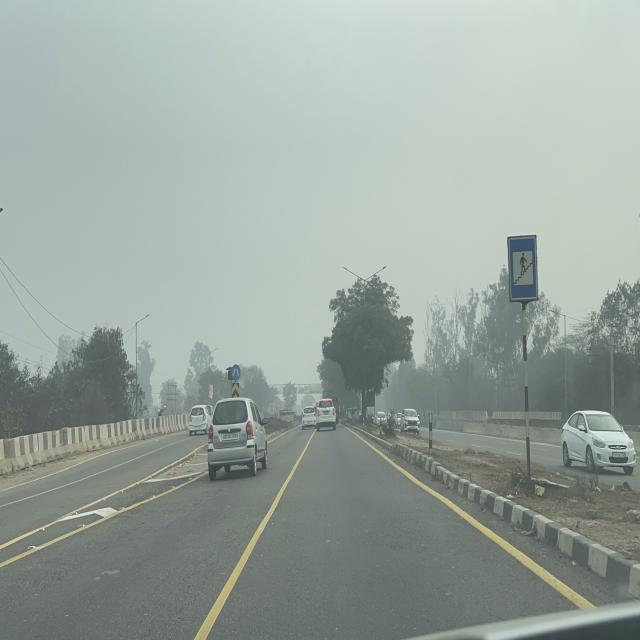INFORMATION: (507, 235, 538, 303)
KEEP_EITHER_SIDE: (231, 364, 241, 381)
